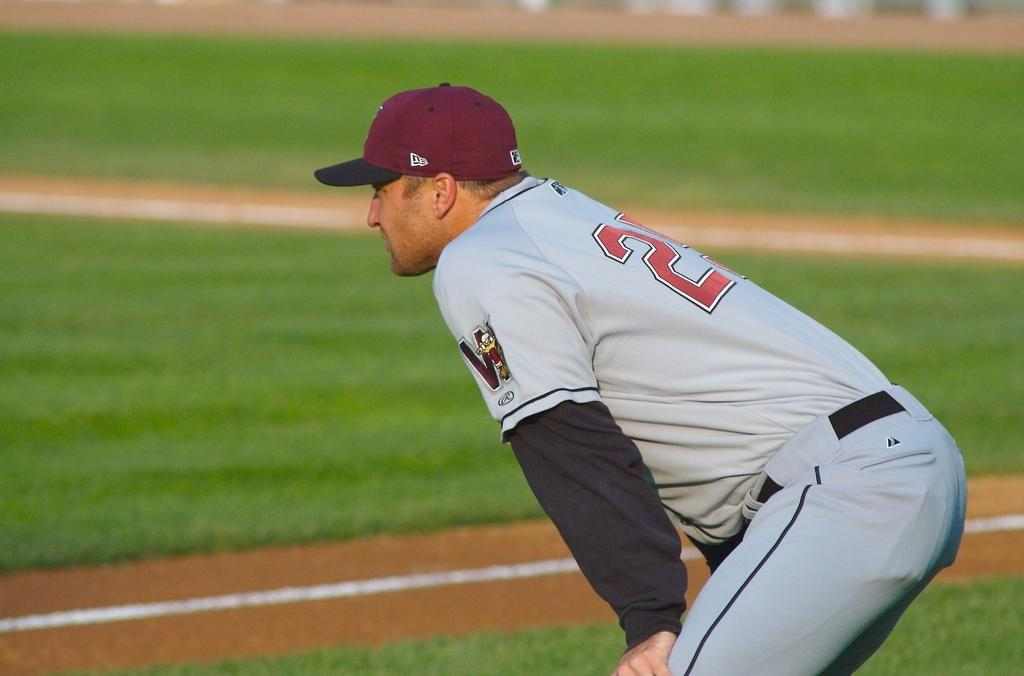Hat: (317, 84, 521, 189)
